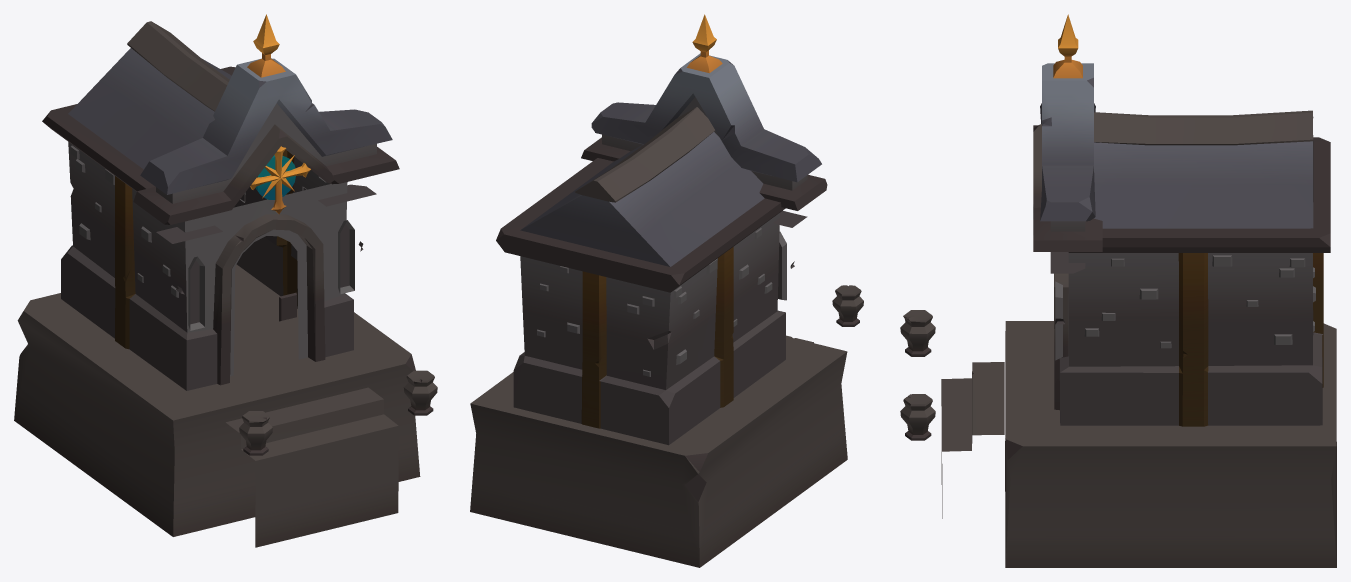
File: Crypt_02_3.fbx
3 views of the same model, side by side, from view 1: azimuth 30°, elevation 25°; view 2: azimuth 150°, elevation 25°; view 3: azimuth 270°, elevation 25° (orthographic). The views are drawn at different scales.
Visible parts, largest first — view 1: Crypt_02_3; view 2: Crypt_02_3; view 3: Crypt_02_3.
Boxes of the visible parts, box(x1,y1,x2,y2) form: Crypt_02_3: box(14, 14, 437, 547); Crypt_02_3: box(470, 14, 863, 567); Crypt_02_3: box(900, 14, 1336, 567).
Size of the model in its own units: 608 by 1110 by 901.
